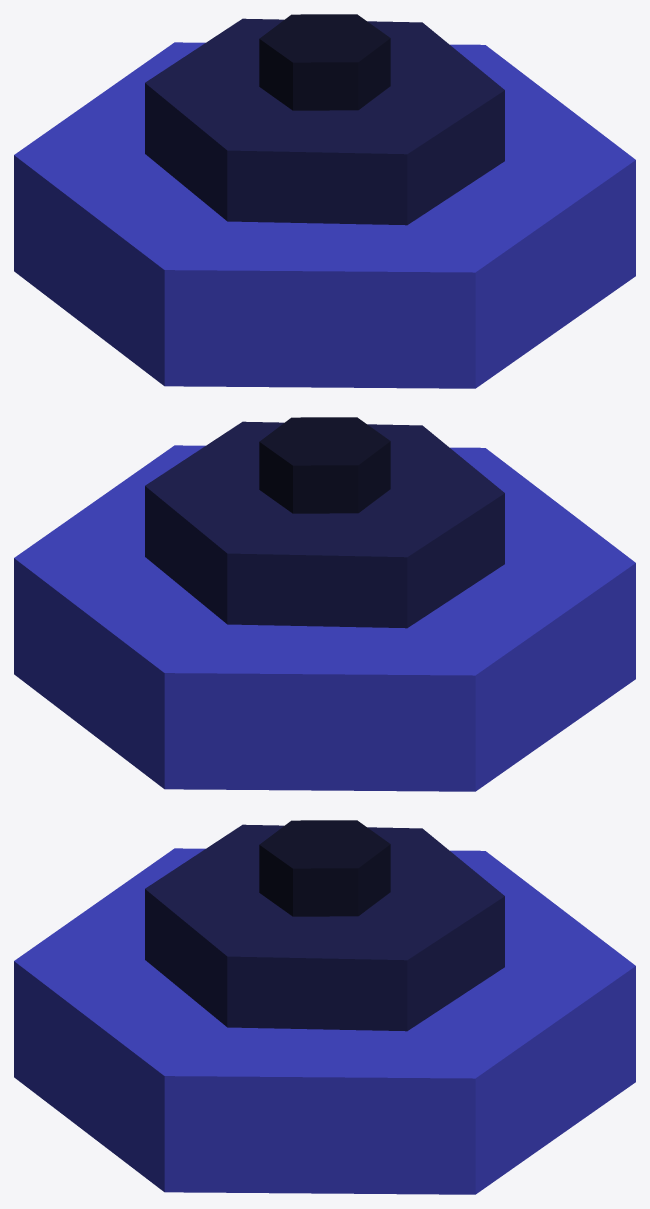
Rendered from anotherPlatform.fbx.
The picture shows the model from 3 angles, top to bottom: view 1: azimuth 30°, elevation 25°; view 2: azimuth 150°, elevation 25°; view 3: azimuth 270°, elevation 25°; orthographic projection.
Visible parts, largest first — view 1: Circle.010, Circle.009, Circle.008; view 2: Circle.010, Circle.009, Circle.008; view 3: Circle.010, Circle.009, Circle.008.
Part boxes in pixels (<box>): Circle.010: <box>14,42,635,388</box>; Circle.009: <box>145,18,504,225</box>; Circle.008: <box>259,14,390,110</box>; Circle.010: <box>14,445,635,791</box>; Circle.009: <box>145,421,504,628</box>; Circle.008: <box>259,417,390,513</box>; Circle.010: <box>14,848,635,1194</box>; Circle.009: <box>145,824,504,1031</box>; Circle.008: <box>259,820,390,916</box>.
Size of the model in its own units: 431 by 378 by 180.
